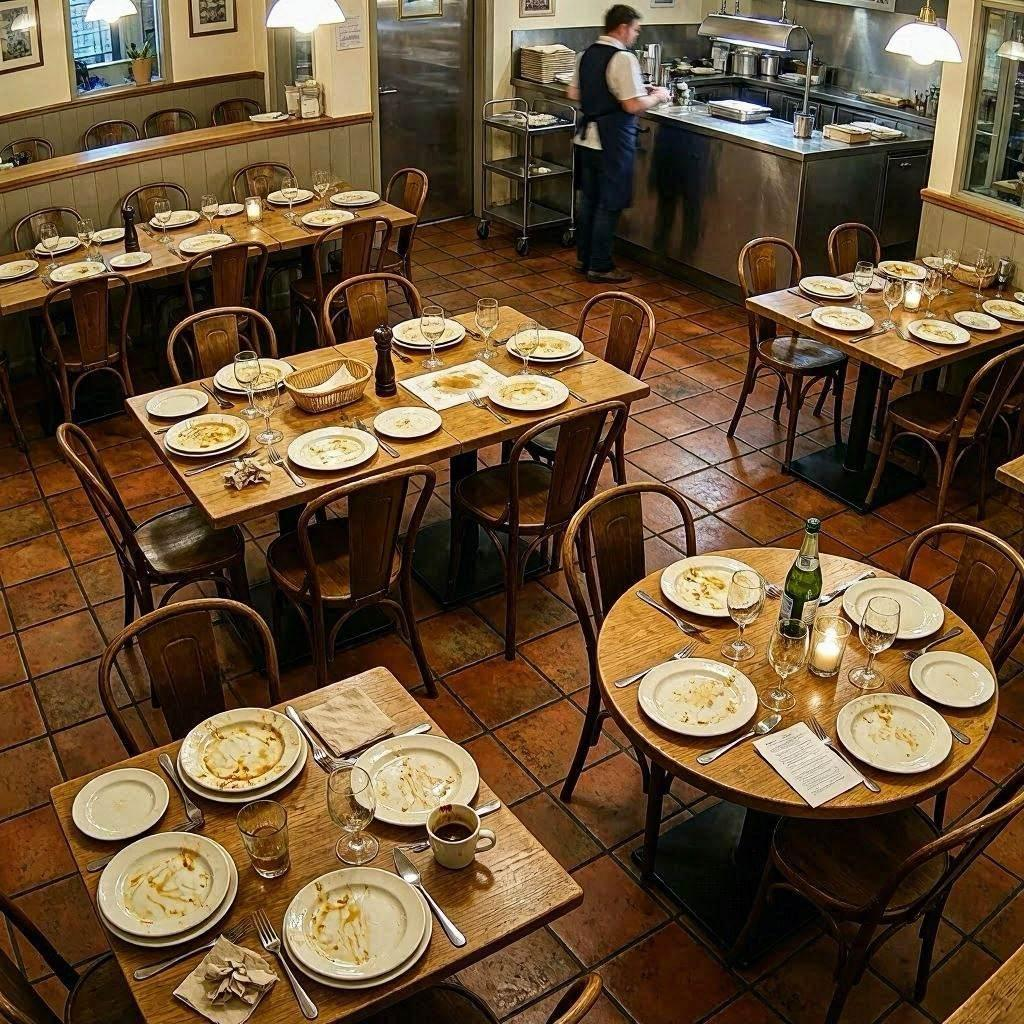dirty: (34, 677, 559, 993), (116, 290, 685, 509), (599, 523, 996, 807), (747, 238, 1022, 375), (0, 175, 339, 282)
